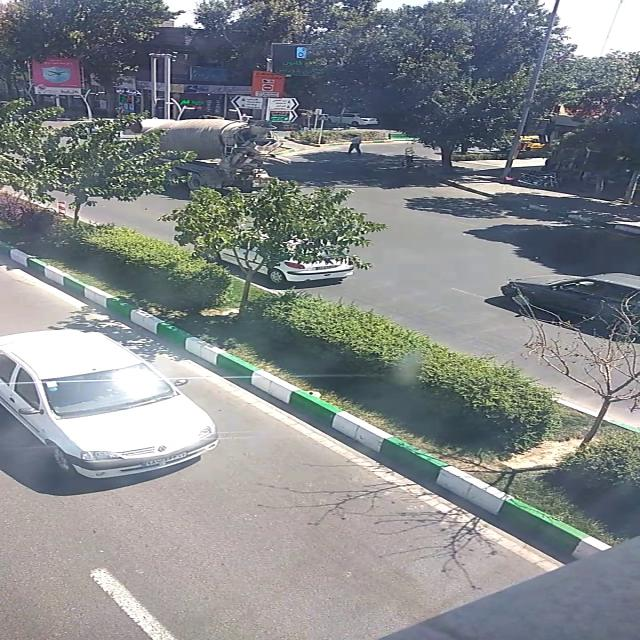car: (1, 328, 219, 480), (503, 264, 640, 336), (210, 248, 354, 283), (325, 113, 378, 125)
